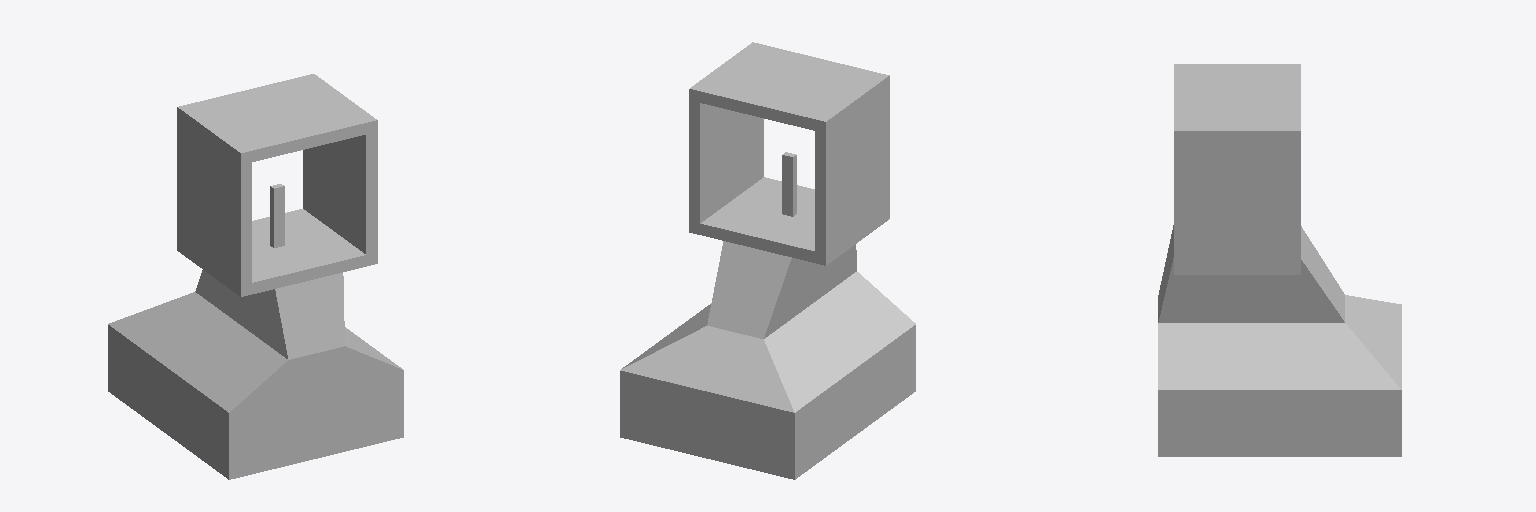
File: Iron_Sight_Front.obj
3 views of the same model, side by side, from view 1: azimuth 30°, elevation 25°; view 2: azimuth 150°, elevation 25°; view 3: azimuth 270°, elevation 25° (orthographic).
Visible parts, largest first — view 1: Iron_Sight_Front_Cube.035; view 2: Iron_Sight_Front_Cube.035; view 3: Iron_Sight_Front_Cube.035.
Boxes of the visible parts, <box> form: Iron_Sight_Front_Cube.035: <box>108,74,403,479</box>; Iron_Sight_Front_Cube.035: <box>620,42,915,479</box>; Iron_Sight_Front_Cube.035: <box>1158,64,1401,456</box>.
Bounding box in the file's own units: 0.0308 × 0.0531 × 0.037.